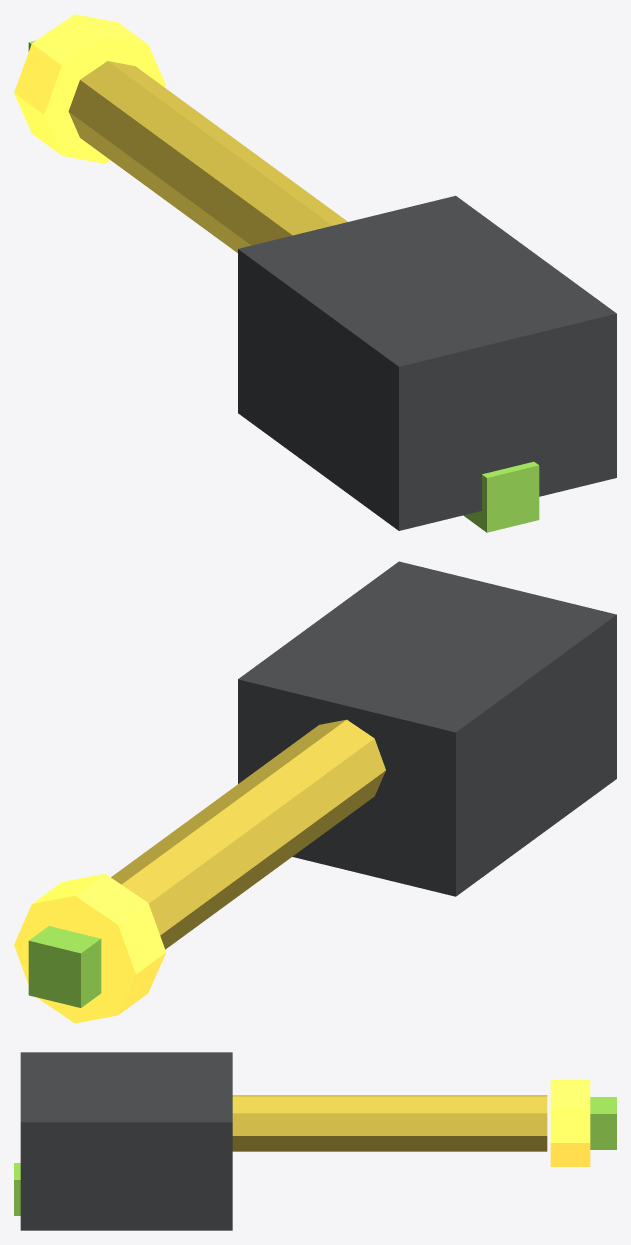
File: gun_mount_light_mk1.glb
3 views of the same model, one above another, from view 1: azimuth 30°, elevation 25°; view 2: azimuth 150°, elevation 25°; view 3: azimuth 270°, elevation 25° (orthographic). The views are drawn at different scales.
Visible parts, largest first — view 1: GEO_Gun_Mount_Base, GEO_Gun_Barrel, GEO_Gun_Muzzle_Red, VIS_PART_Gun_Mount_Light_Mk1_CONN_MOUNT; view 2: GEO_Gun_Mount_Base, GEO_Gun_Barrel, GEO_Gun_Muzzle_Red, VIS_PART_Gun_Mount_Light_Mk1_MUZZLE; view 3: GEO_Gun_Mount_Base, GEO_Gun_Barrel, GEO_Gun_Muzzle_Red, VIS_PART_Gun_Mount_Light_Mk1_MUZZLE, VIS_PART_Gun_Mount_Light_Mk1_CONN_MOUNT.
Boxes of the visible parts, bbox=[...] form: GEO_Gun_Mount_Base: bbox=[238, 195, 616, 530]; GEO_Gun_Barrel: bbox=[68, 61, 347, 252]; GEO_Gun_Muzzle_Red: bbox=[14, 14, 166, 163]; VIS_PART_Gun_Mount_Light_Mk1_CONN_MOUNT: bbox=[463, 461, 539, 532]; GEO_Gun_Mount_Base: bbox=[238, 561, 616, 896]; GEO_Gun_Barrel: bbox=[111, 719, 385, 949]; GEO_Gun_Muzzle_Red: bbox=[14, 874, 166, 1023]; VIS_PART_Gun_Mount_Light_Mk1_MUZZLE: bbox=[28, 926, 101, 1007]; GEO_Gun_Mount_Base: bbox=[20, 1052, 232, 1230]; GEO_Gun_Barrel: bbox=[232, 1095, 547, 1151]; GEO_Gun_Muzzle_Red: bbox=[550, 1080, 590, 1166]; VIS_PART_Gun_Mount_Light_Mk1_MUZZLE: bbox=[590, 1097, 616, 1149]; VIS_PART_Gun_Mount_Light_Mk1_CONN_MOUNT: bbox=[14, 1163, 20, 1215].
Size of the model in its own units: 0.25 by 0.21 by 0.91.
